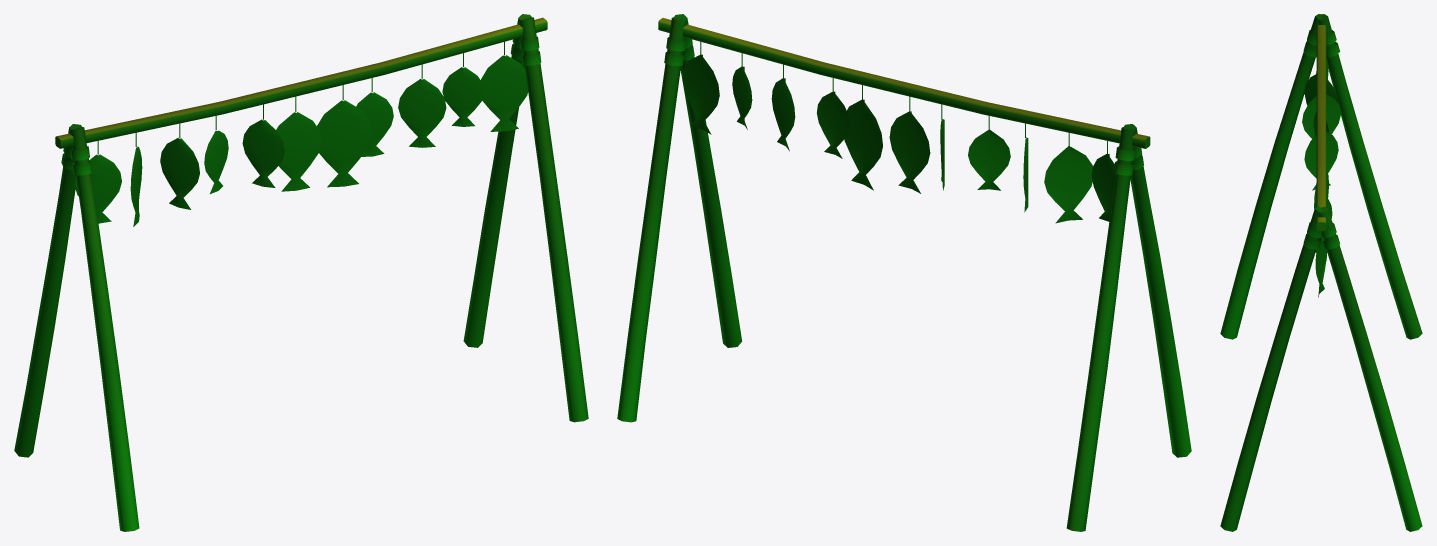
Rendered from fish_drying_rack.glb.
The picture shows the model from 3 angles, left to right: view 1: azimuth 30°, elevation 25°; view 2: azimuth 150°, elevation 25°; view 3: azimuth 270°, elevation 25°; orthographic projection. The views are drawn at different scales.
Parts seen in each view (by area): view 1: fish_drying_rack; view 2: fish_drying_rack; view 3: fish_drying_rack.
Boxes of the visible parts, x1=… form: fish_drying_rack: x1=14, y1=14, x2=588, y2=531; fish_drying_rack: x1=617, y1=14, x2=1191, y2=531; fish_drying_rack: x1=1220, y1=14, x2=1422, y2=531.
Size of what is drawn, in the model's own units: 2.6 by 1.87 by 1.07.
